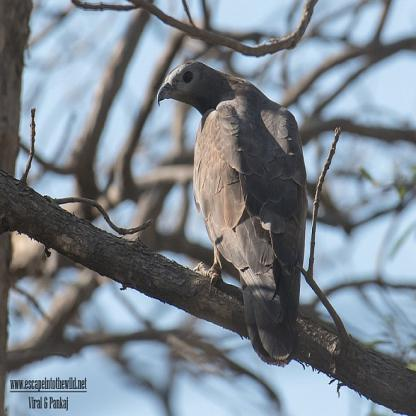Burung: (152, 58, 336, 367)
